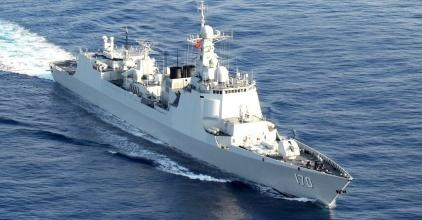warship: (49, 1, 350, 206)
